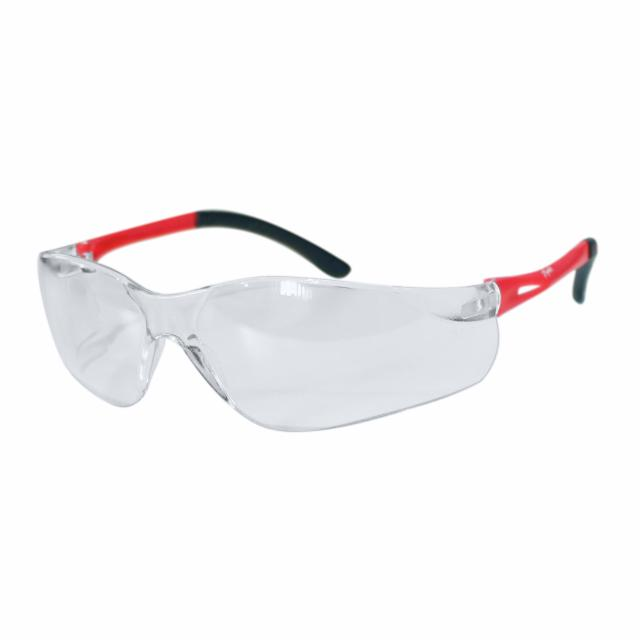Protective Glasses: (33, 187, 604, 479)
